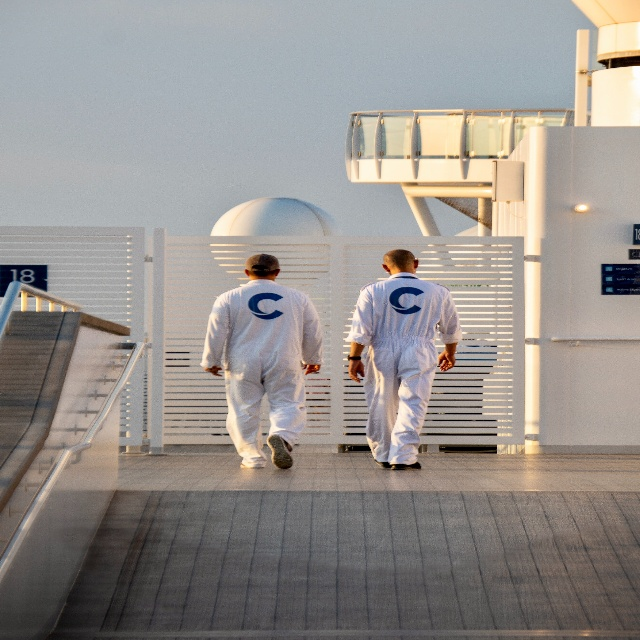Sin_guantes: (346, 356, 365, 384), (436, 346, 455, 372), (204, 364, 224, 379), (301, 360, 320, 375)
